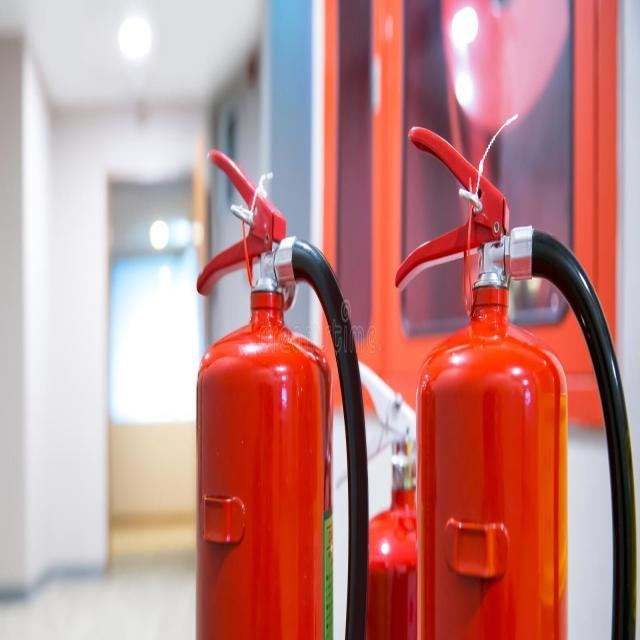fire_extinguisher: (386, 112, 640, 640), (190, 146, 372, 639), (323, 342, 465, 639)
